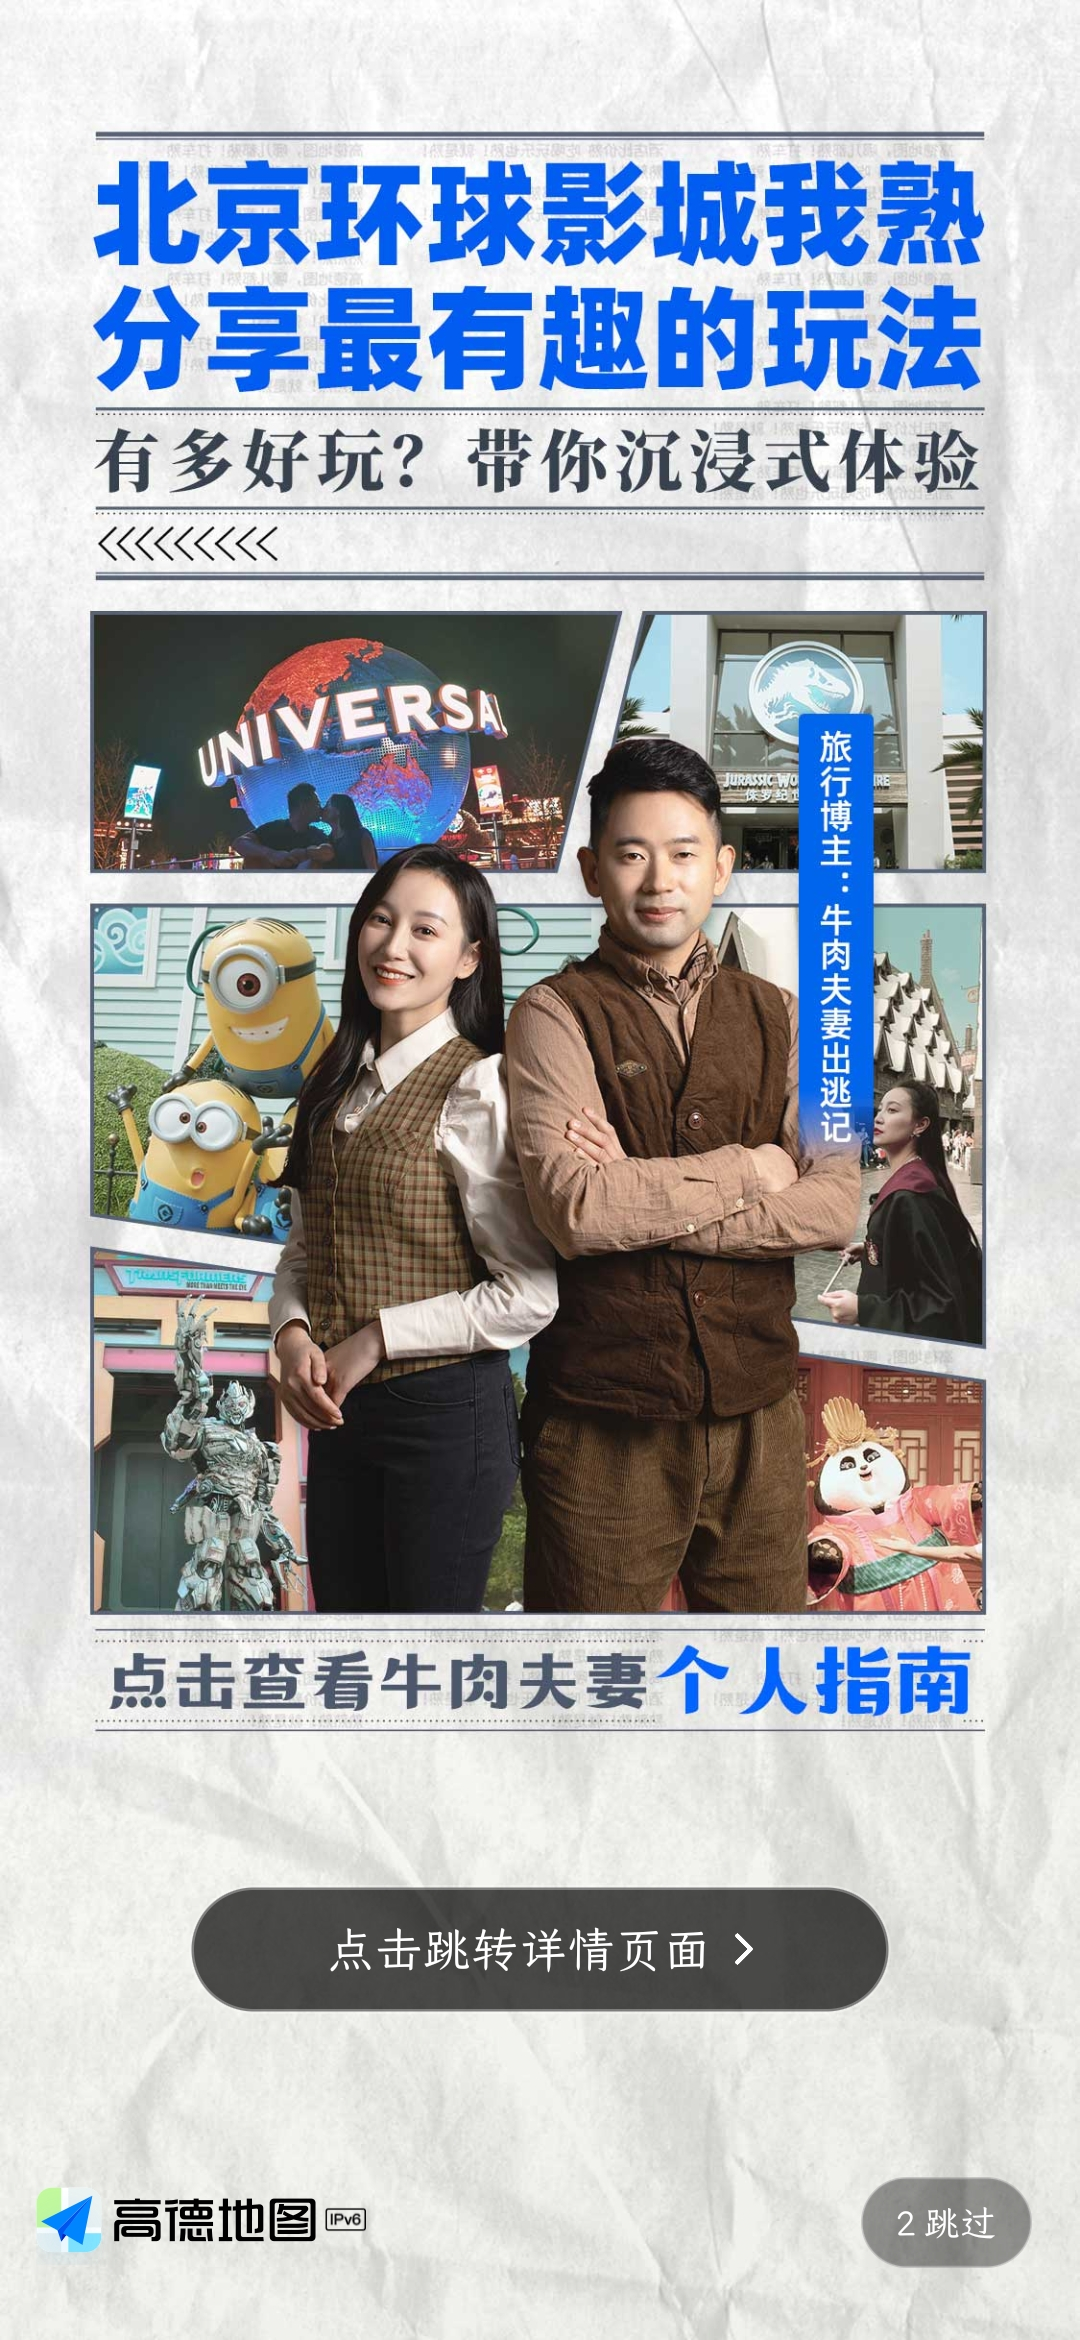skip: (873, 2186, 1008, 2259)
